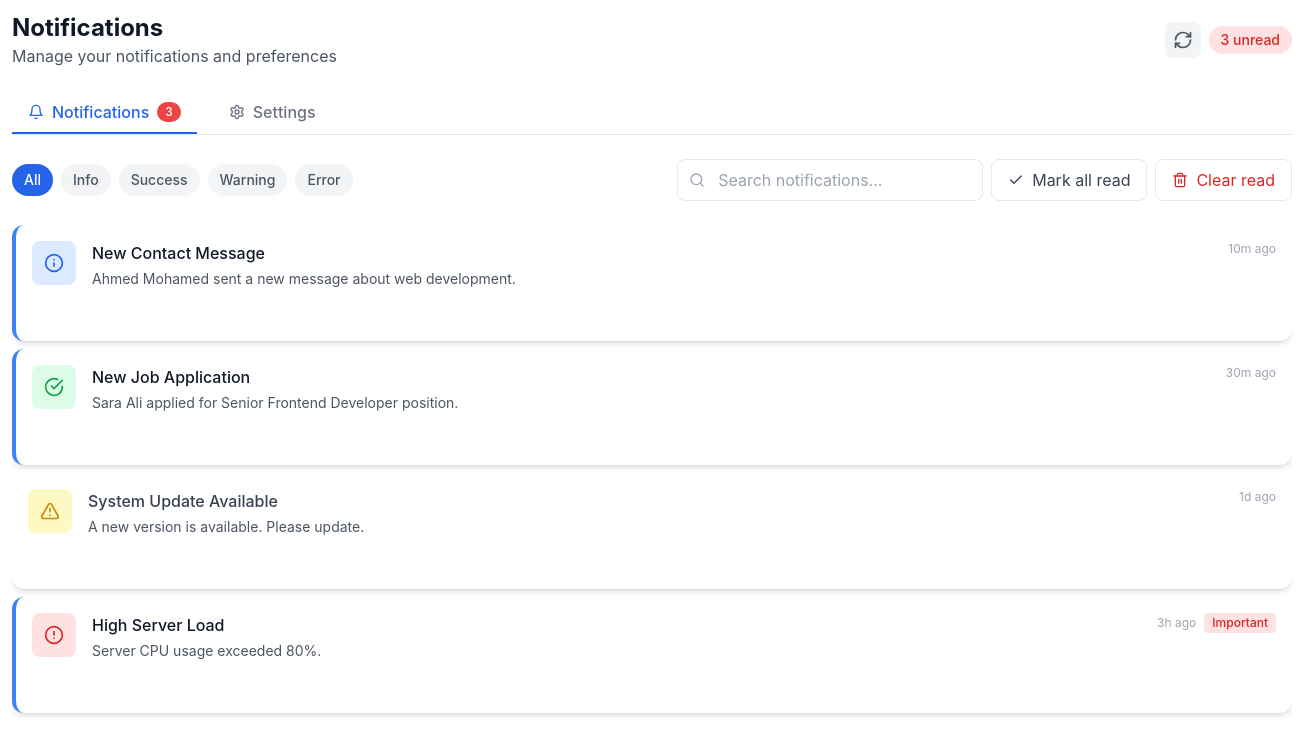
Notifications Page › Empty State › shows empty state when no notifications match filter
Type "xyz123nonexistent" into the field with placeholder "Search notifications..." at (830, 180), box [677,159,983,201]
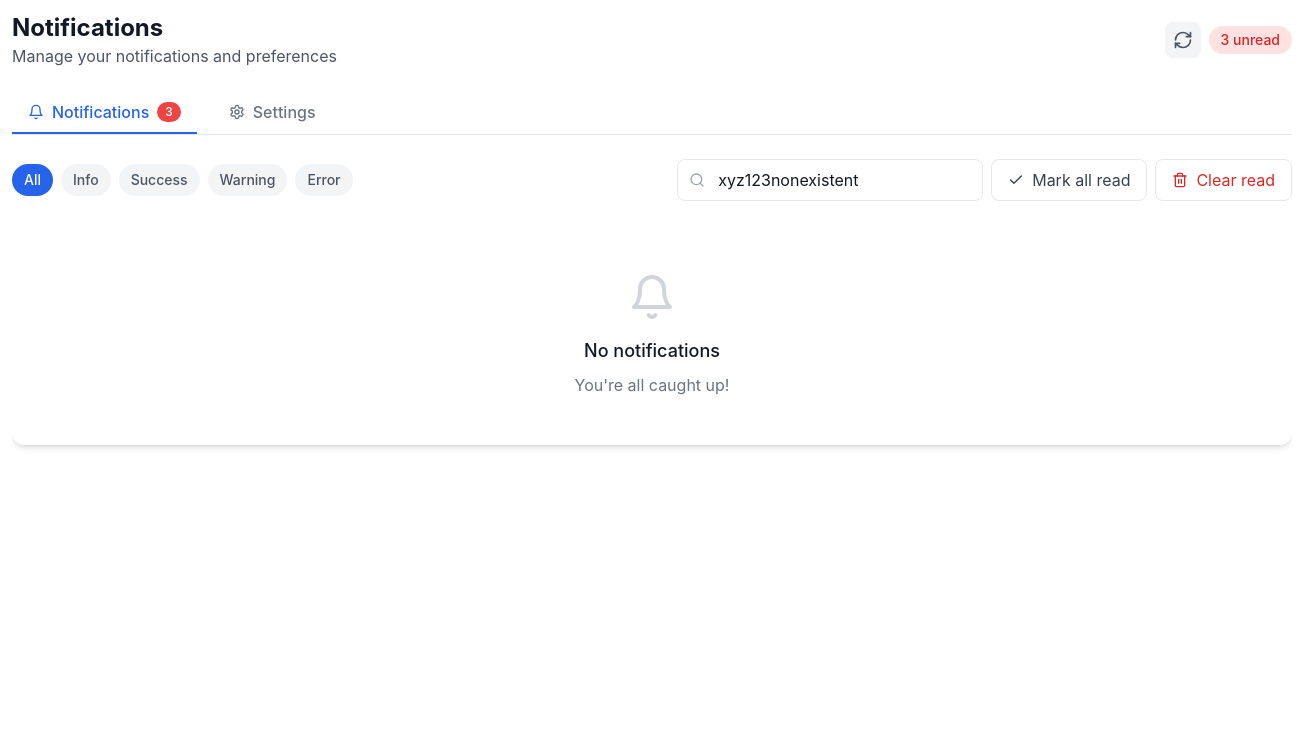
Expected: the heading "No notifications" is shown, [584,340,720,361]
Expected: the text "You're all caught up!" is shown, [574,375,729,395]
